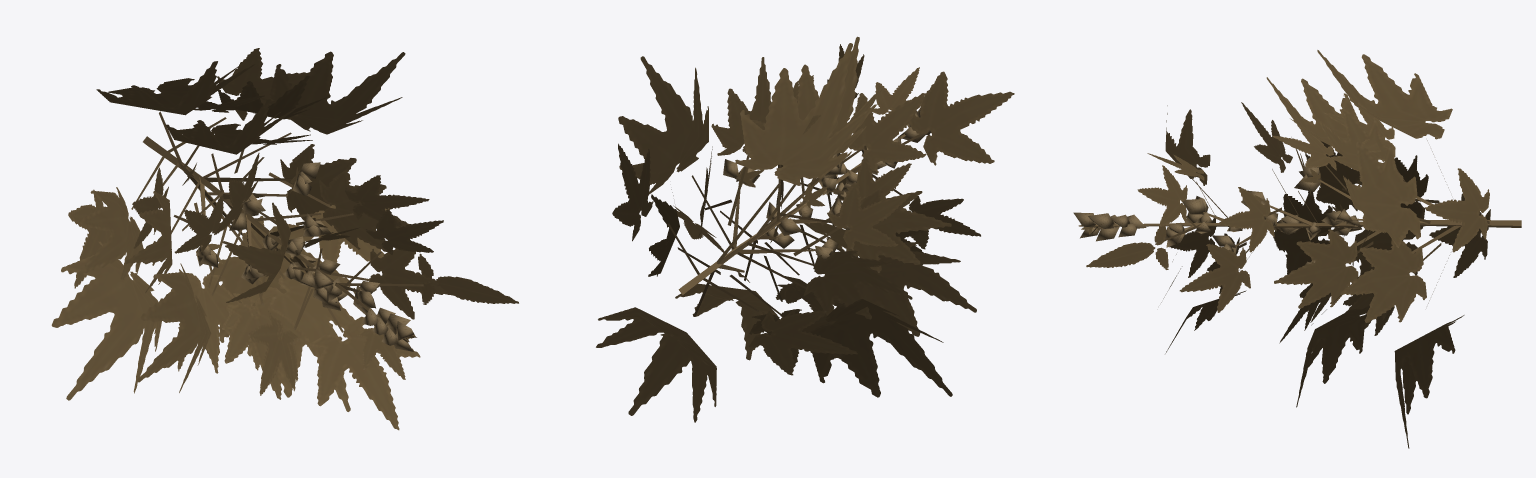
Rendered from p_male_tree_flowering_c3_cards.obj.
The picture shows the model from 3 angles, left to right: view 1: azimuth 30°, elevation 25°; view 2: azimuth 150°, elevation 25°; view 3: azimuth 270°, elevation 25°; orthographic projection. The views are drawn at different scales.
Size of the model in its own units: 1.42 by 1.41 by 1.55.
1 material, 1 textured.
